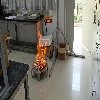fire: (34, 20, 48, 70)
